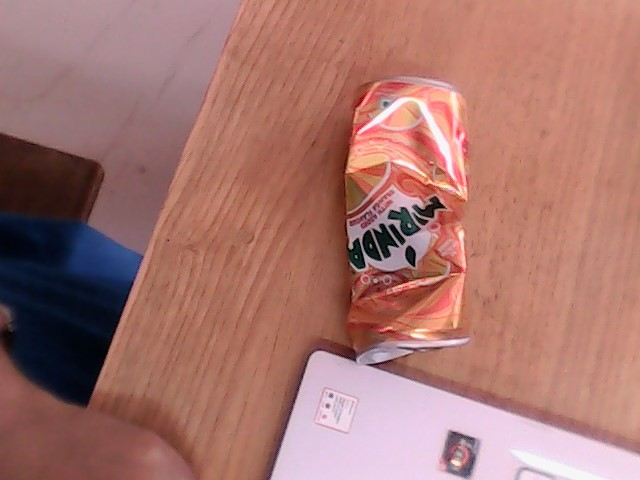Metal: (339, 89, 475, 354)
